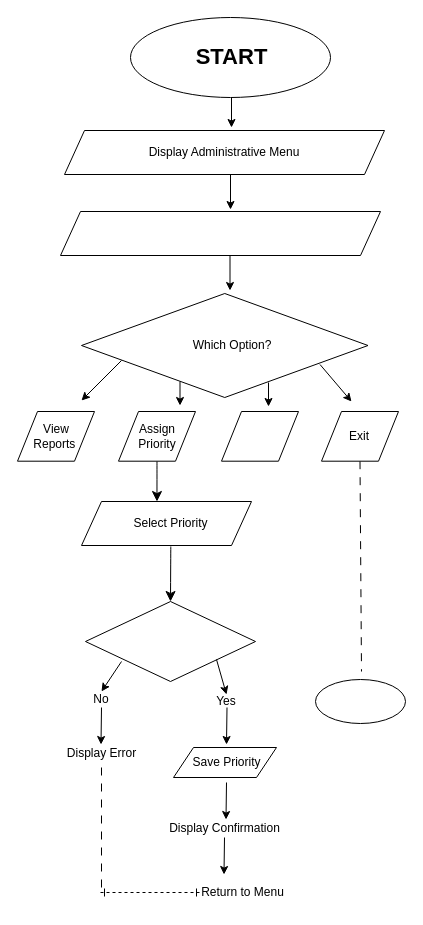
The diagram is 423 pixels wide and 925 high, and some of its shapes have lost their labels. Each missing label, with the box of its shape:
END: (314, 678, 406, 724)
Enter Menu Choice: (60, 210, 380, 256)
Is Choice Valid: (84, 600, 256, 682)
Update Report Status: (220, 410, 298, 461)
